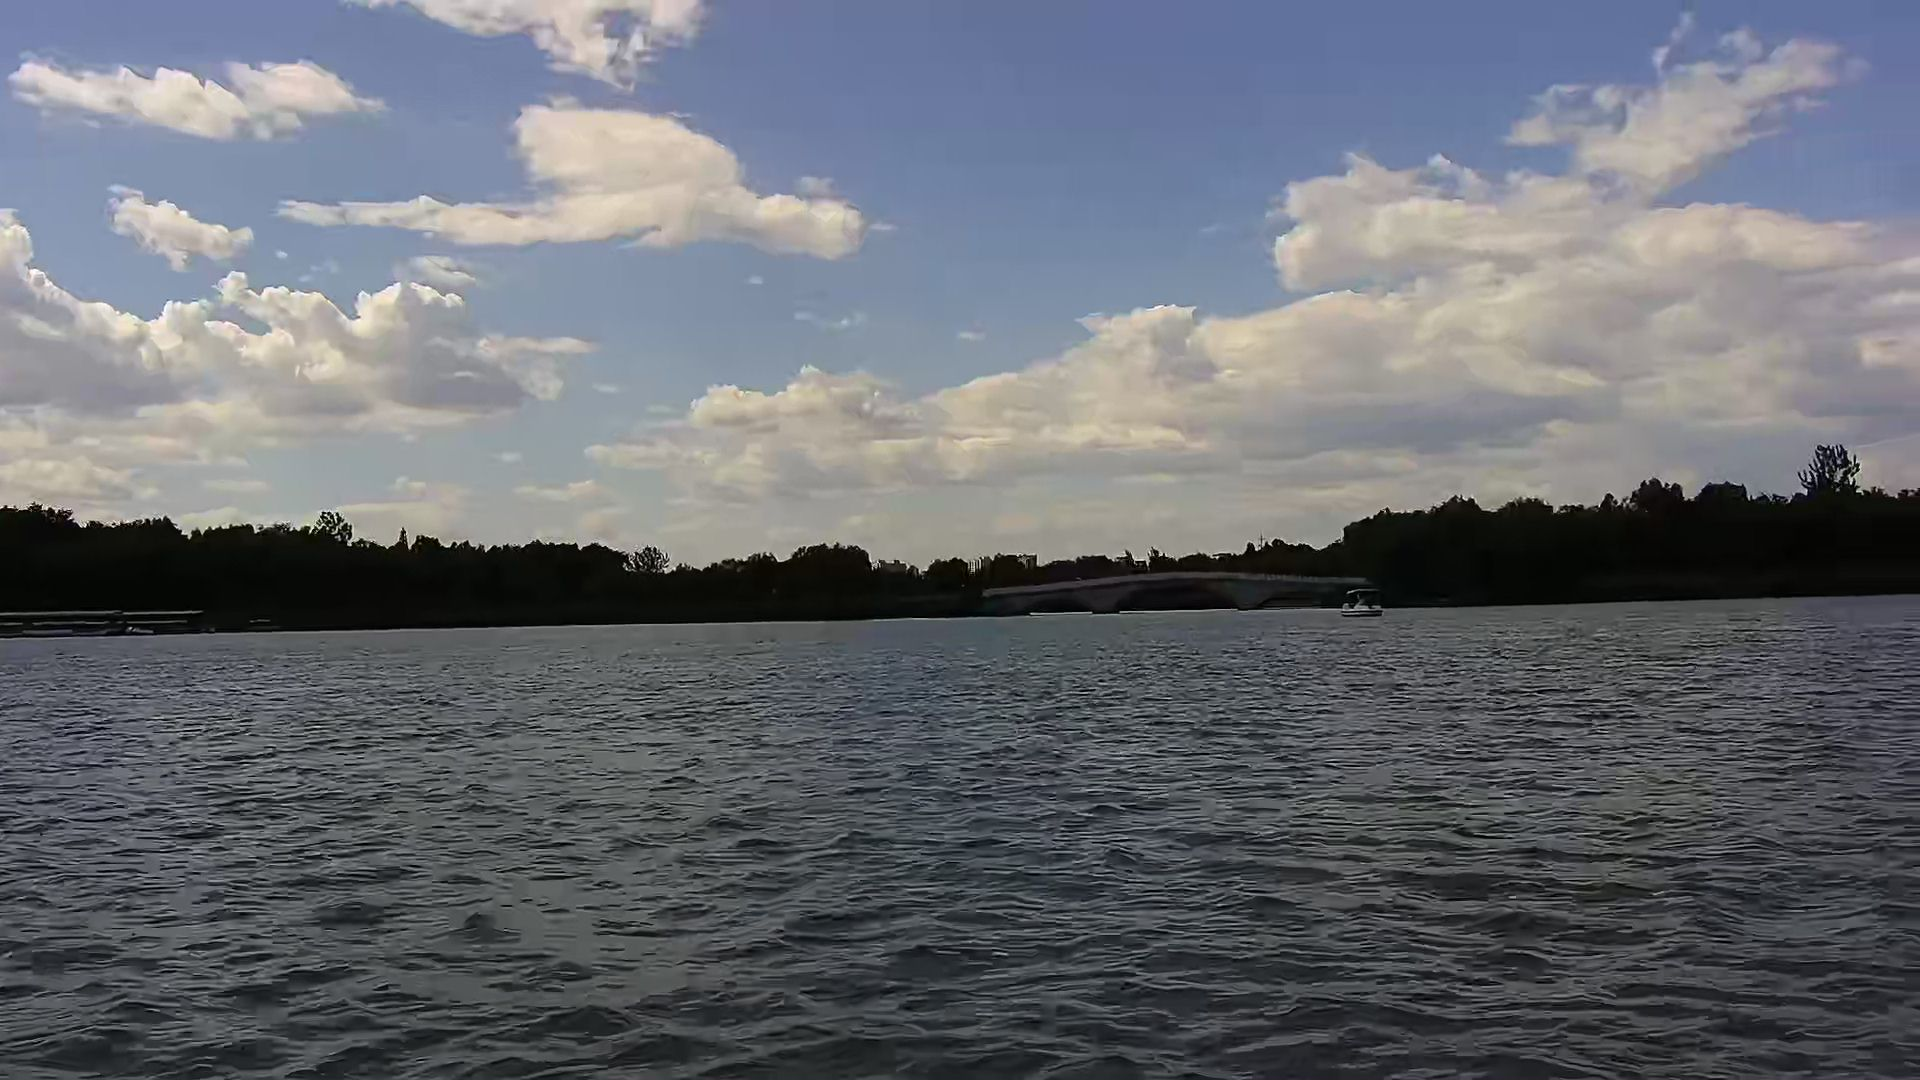boat: (1338, 585, 1385, 616)
bridge: (985, 578, 1367, 616), (1, 607, 207, 634)
